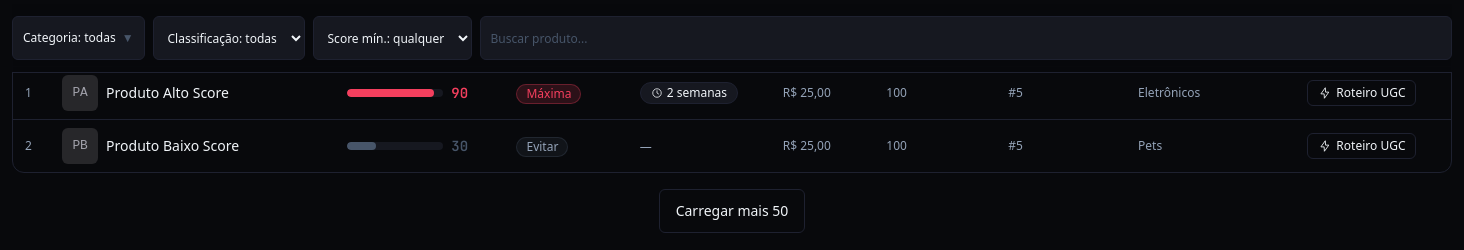
Test case: <ProductsTable /> › 'Carregar mais 50' busca a próxima página via cursor e concatena (sem refazer o fetch inicial)
The image size is (1464, 250).
Click the button "Carregar mais 50": (732, 211) top-left (659, 189), bottom-right (805, 233)
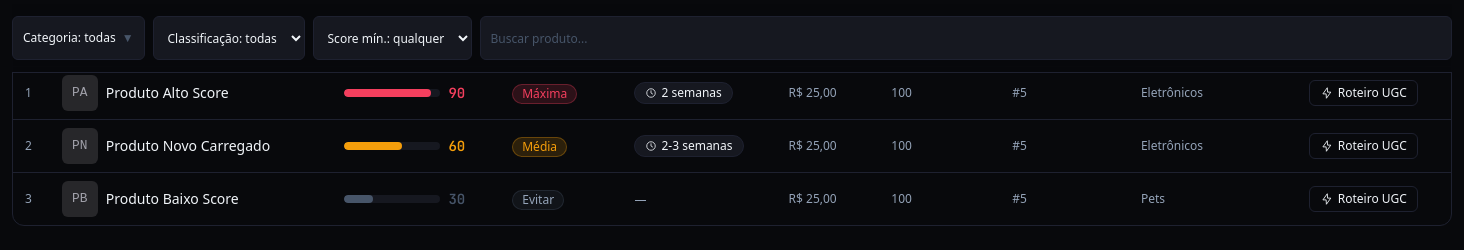
Now the text "Produto Novo Carregado" is shown, box top-left (106, 136), bottom-right (270, 156)
Now the button "Carregar mais 50" is gone
